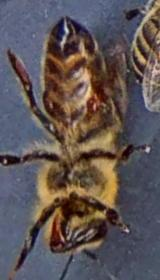varroa_mite: (75, 86, 112, 116)
